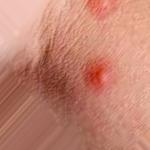Ants: (81, 56, 118, 94), (84, 0, 119, 19)
